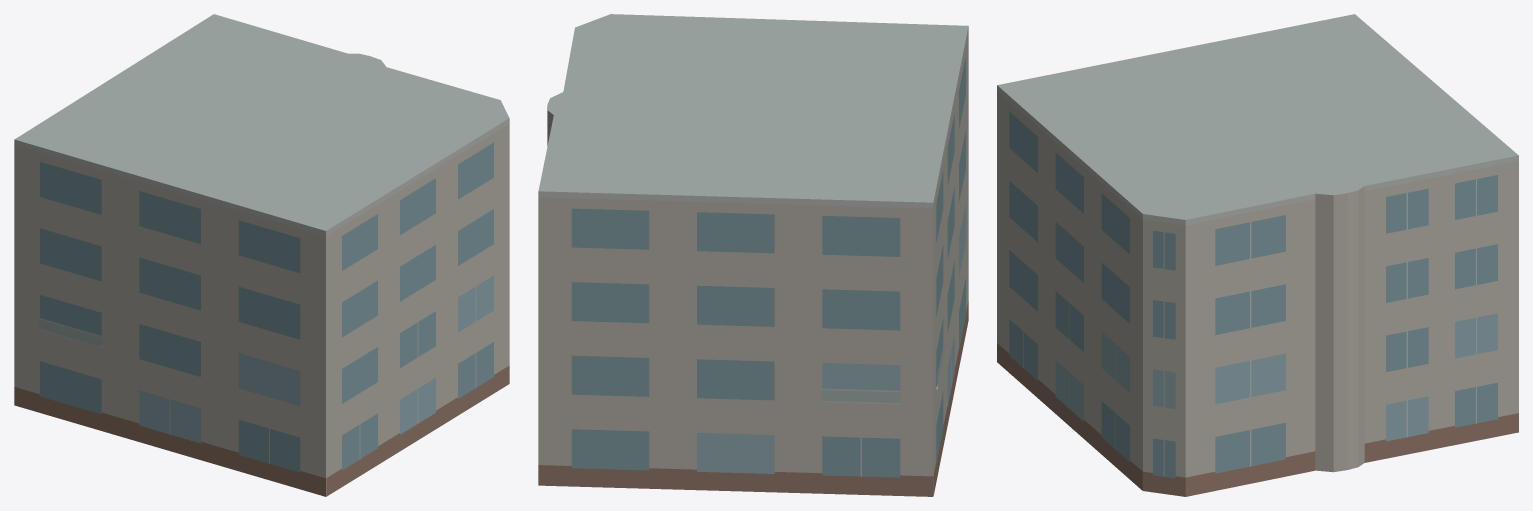
File: survey-upis-32741017.glb
3 views of the same model, side by side, from view 1: azimuth 30°, elevation 25°; view 2: azimuth 150°, elevation 25°; view 3: azimuth 270°, elevation 25° (orthographic). The views are drawn at different scales.
Parts seen in each view (by area): view 1: survey-upis-32741017.tmp; view 2: survey-upis-32741017.tmp; view 3: survey-upis-32741017.tmp.
Boxes of the visible parts, x1,y1,x2,y2 form: survey-upis-32741017.tmp: (14, 14, 509, 496); survey-upis-32741017.tmp: (538, 14, 968, 496); survey-upis-32741017.tmp: (997, 14, 1518, 496).
Bounding box in the file's own units: 19.54 × 12.25 × 20.92.
